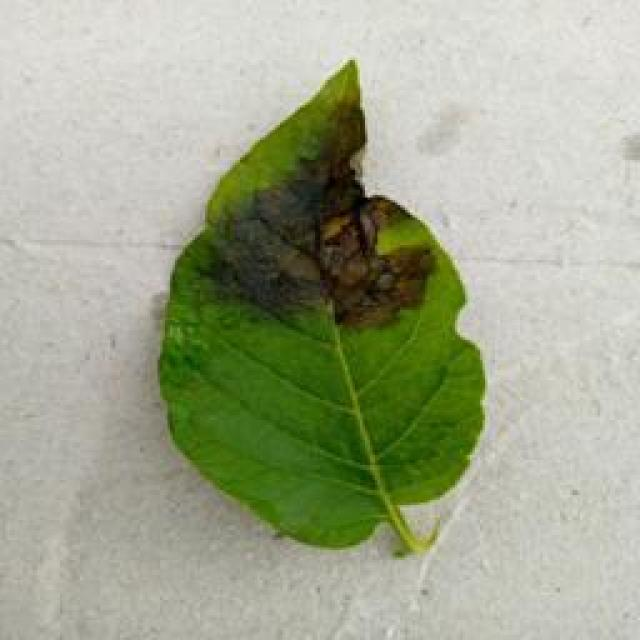late_blight: (152, 55, 490, 557)
